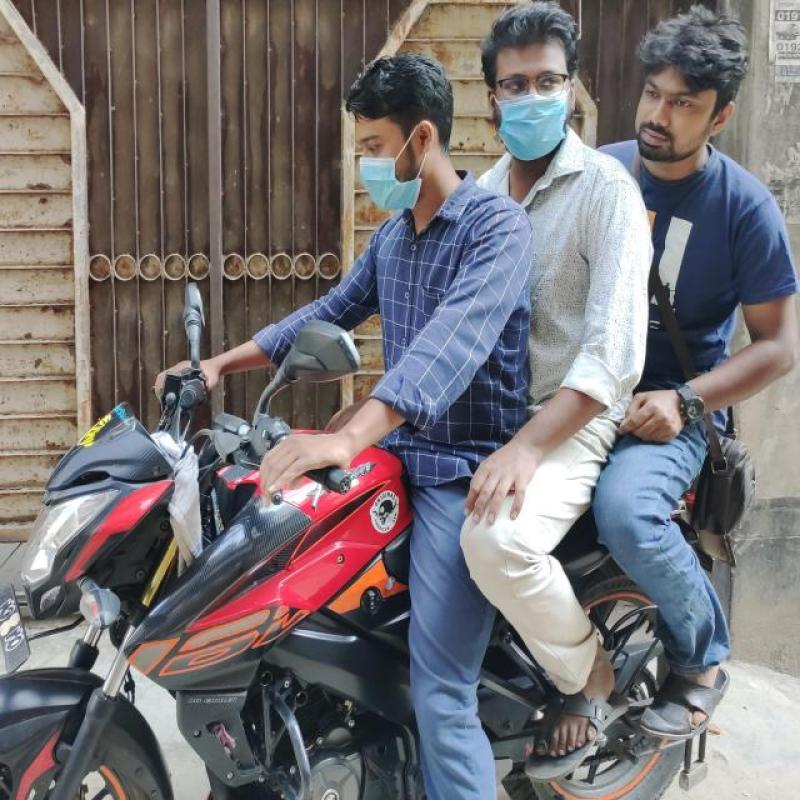nohelmet: (338, 53, 457, 237), (641, 13, 745, 199), (485, 24, 588, 172)
